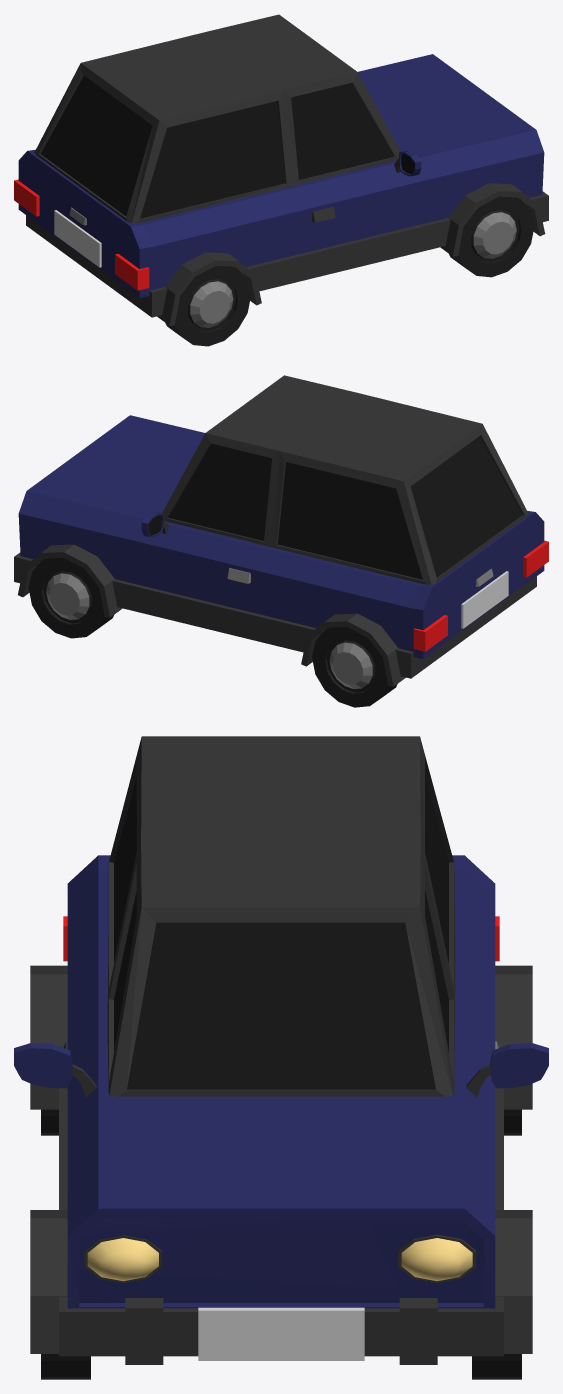
Rendered from SM_car_01.fbx.
3 renders of one model, top to bottom at view 1: azimuth 30°, elevation 25°; view 2: azimuth 150°, elevation 25°; view 3: azimuth 270°, elevation 25°, orthographic. The views are drawn at different scales.
Parts seen in each view (by area): view 1: Object290; view 2: Object290; view 3: Object290.
Part boxes in pixels (<box>): Object290: <box>14,14,548,346</box>; Object290: <box>14,375,548,707</box>; Object290: <box>14,736,548,1379</box>.
Bounding box in the file's own units: 132 × 63.56 × 82.97.
